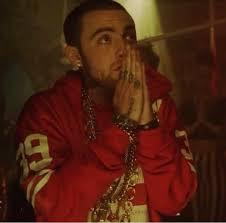Praying-Hands: (110, 44, 156, 131)
